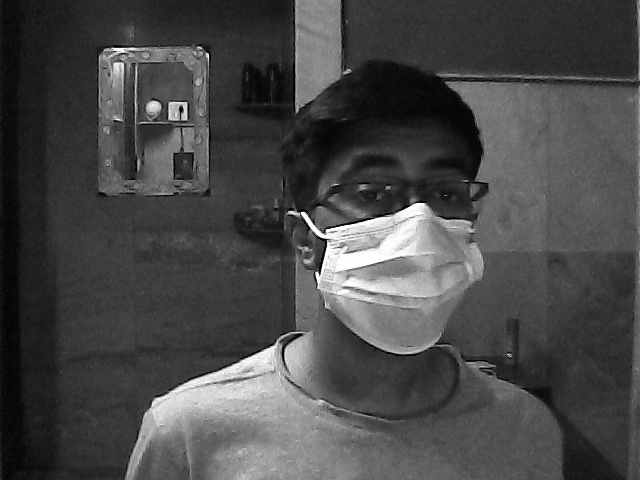mask: (311, 137, 492, 367)
